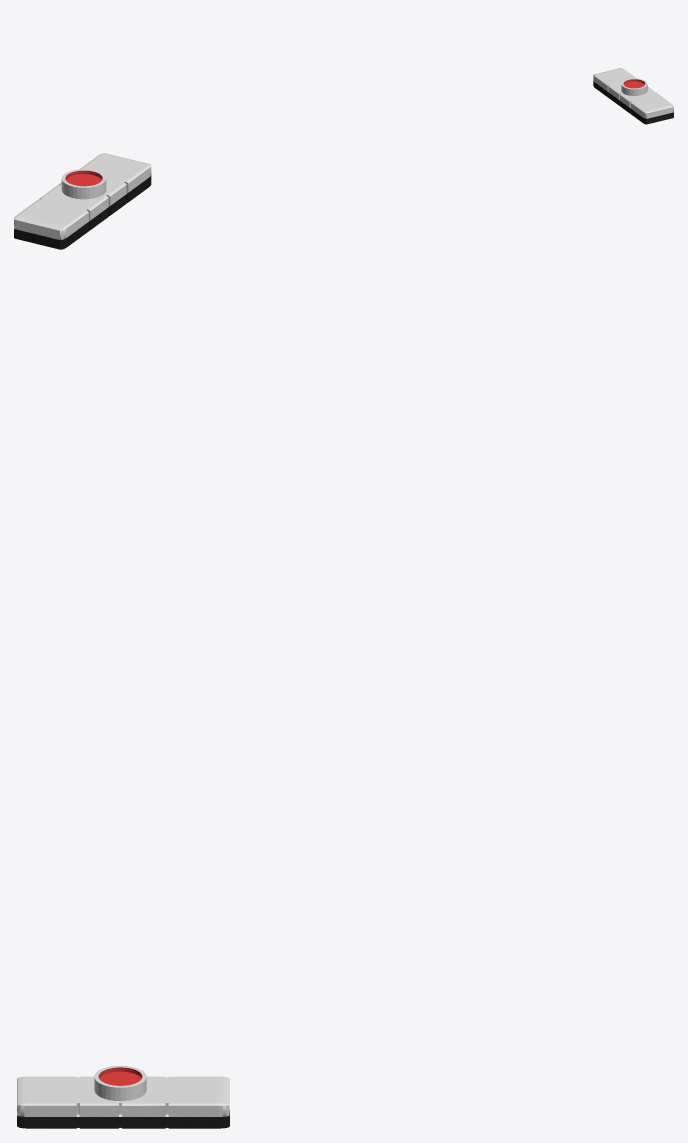
The model's file is button1.glb.
The picture shows the model from 3 angles, top to bottom: view 1: azimuth 30°, elevation 25°; view 2: azimuth 150°, elevation 25°; view 3: azimuth 270°, elevation 25°; orthographic projection. The views are drawn at different scales.
Parts seen in each view (by area): view 1: Cube.002, Cube.001, Cylinder; view 2: Cube.002, Cube.001, Cylinder; view 3: Cube.002, Cube.001, Cylinder.
Boxes of the visible parts, x1=… form: Cube.002: x1=593, y1=68, x2=673, y2=118; Cube.001: x1=593, y1=80, x2=673, y2=124; Cylinder: x1=621, y1=78, x2=647, y2=95; Cube.002: x1=14, y1=153, x2=151, y2=239; Cube.001: x1=14, y1=175, x2=151, y2=249; Cylinder: x1=61, y1=169, x2=106, y2=199; Cube.002: x1=17, y1=1076, x2=229, y2=1116; Cube.001: x1=17, y1=1115, x2=229, y2=1128; Cylinder: x1=94, y1=1065, x2=146, y2=1101.
Bounding box in the file's own units: 23.09 × 4.68 × 13.13.
4 materials, 2 textured.
